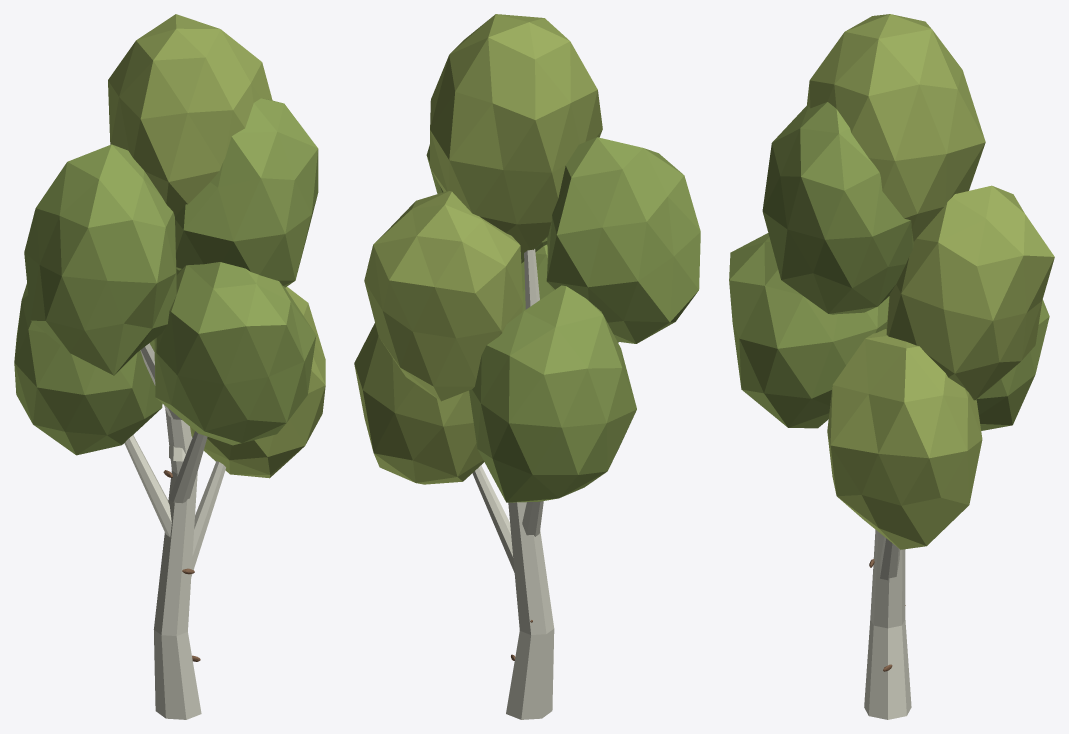
The model's file is Birch.fbx.
3 renders of one model, left to right at view 1: azimuth 30°, elevation 25°; view 2: azimuth 150°, elevation 25°; view 3: azimuth 270°, elevation 25°, orthographic.
Visible parts, largest first — view 1: Birch; view 2: Birch; view 3: Birch.
Part boxes in pixels (x1,y1,x2,y2): Birch: [14, 14, 325, 719]; Birch: [354, 14, 700, 719]; Birch: [729, 14, 1054, 719].
Bounding box in the file's own units: 297 × 638 × 271.
